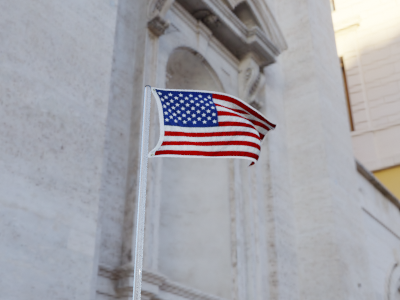America flag: (150, 87, 276, 166)
